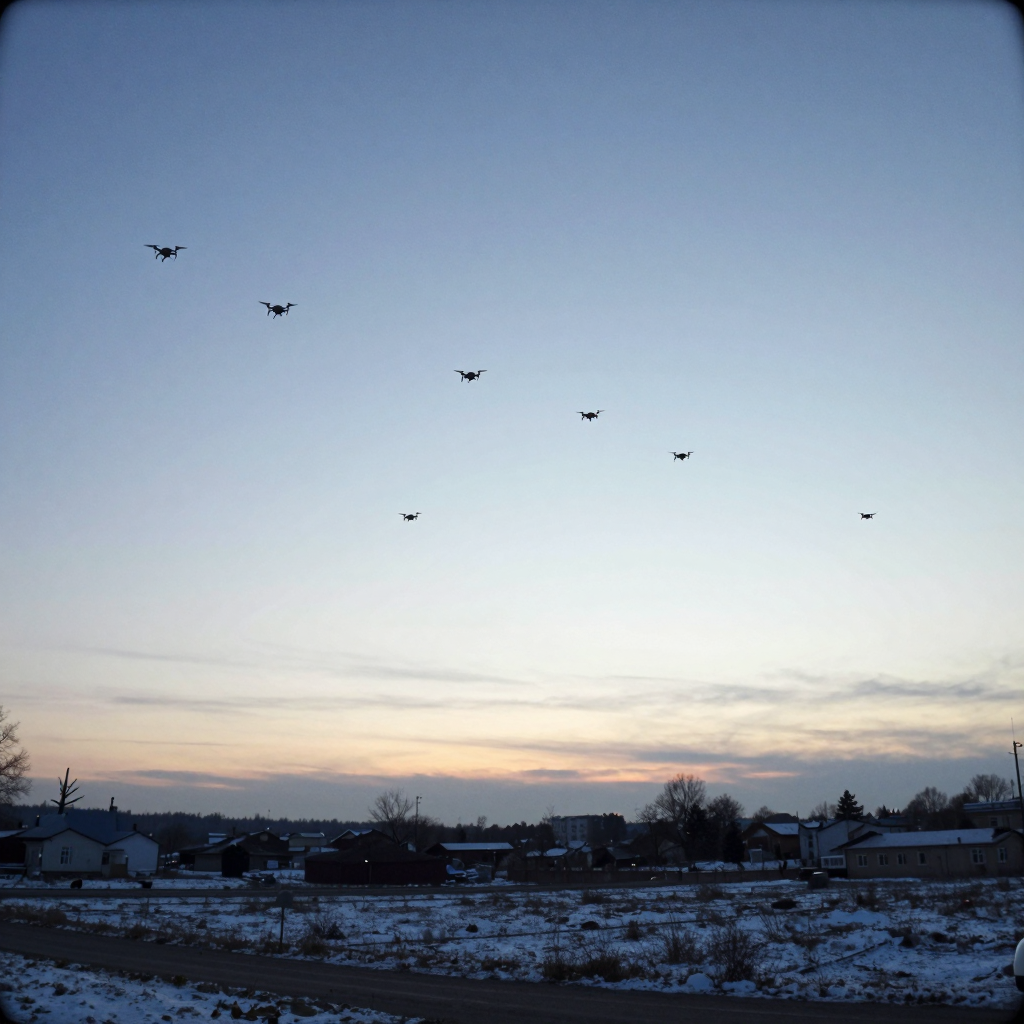drone: (144, 244, 187, 263), (258, 301, 298, 319), (454, 369, 488, 383), (576, 409, 605, 422), (668, 451, 694, 462), (398, 512, 422, 522), (857, 512, 877, 520)
